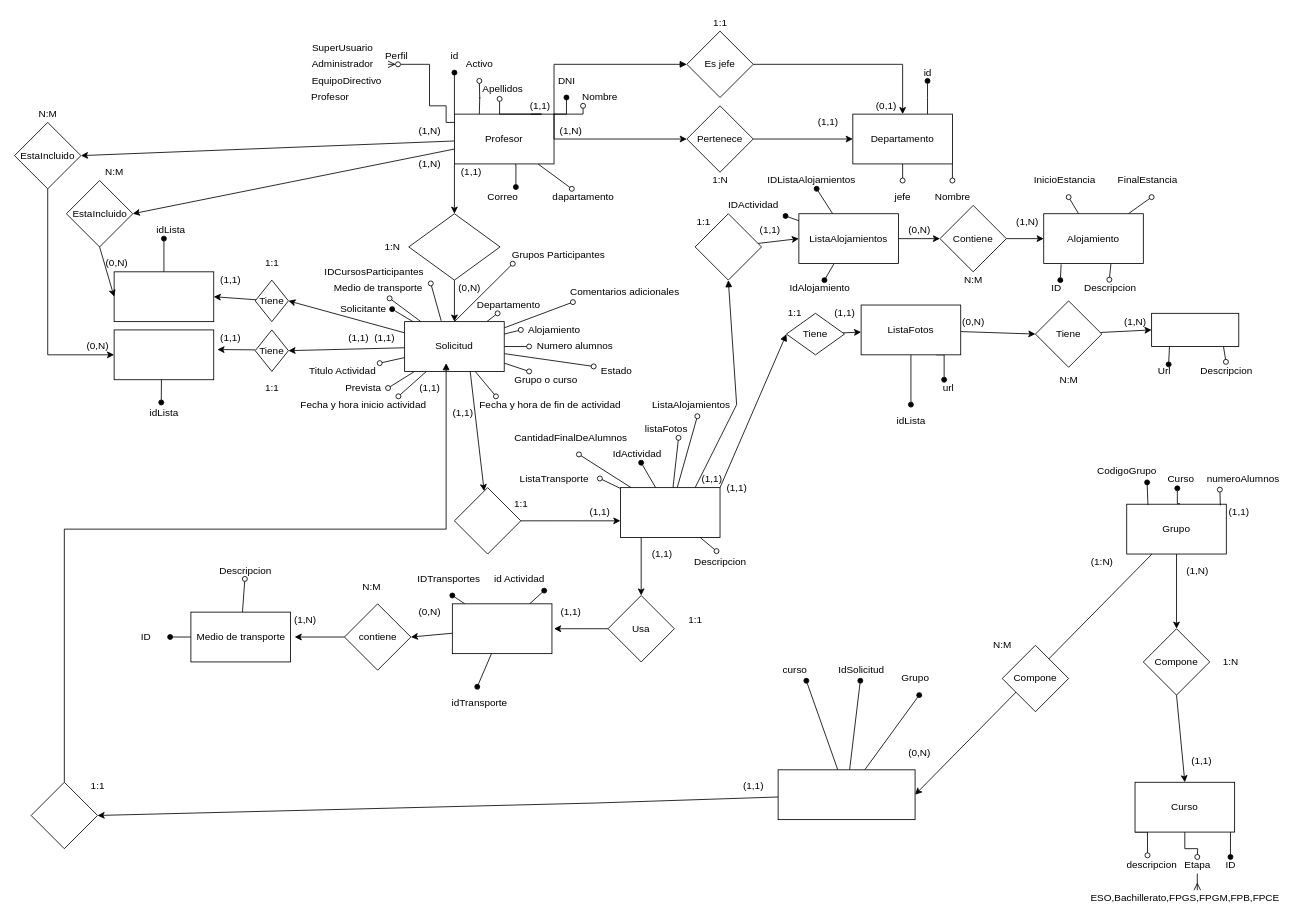
The diagram is 1299 pixels wide and 920 high, and some of its shapes have lost their labels. The shapes that lost their labels are listed below. From the top down, each one's box as (x1, y1, x2, y2) in pixels, then its label:
(408, 213, 500, 280): Hace
(694, 213, 762, 280): Requiere
(113, 271, 214, 322): Profesores participantes
(1151, 312, 1239, 347): Fotos
(113, 329, 214, 380): Profesores responsables
(454, 487, 521, 554): Procede
(620, 487, 720, 537): ACEX Programadas
(452, 603, 552, 654): Lista Medios de transporte
(777, 769, 915, 820): ListaGruposParticipantes
(30, 781, 98, 849): Participa
